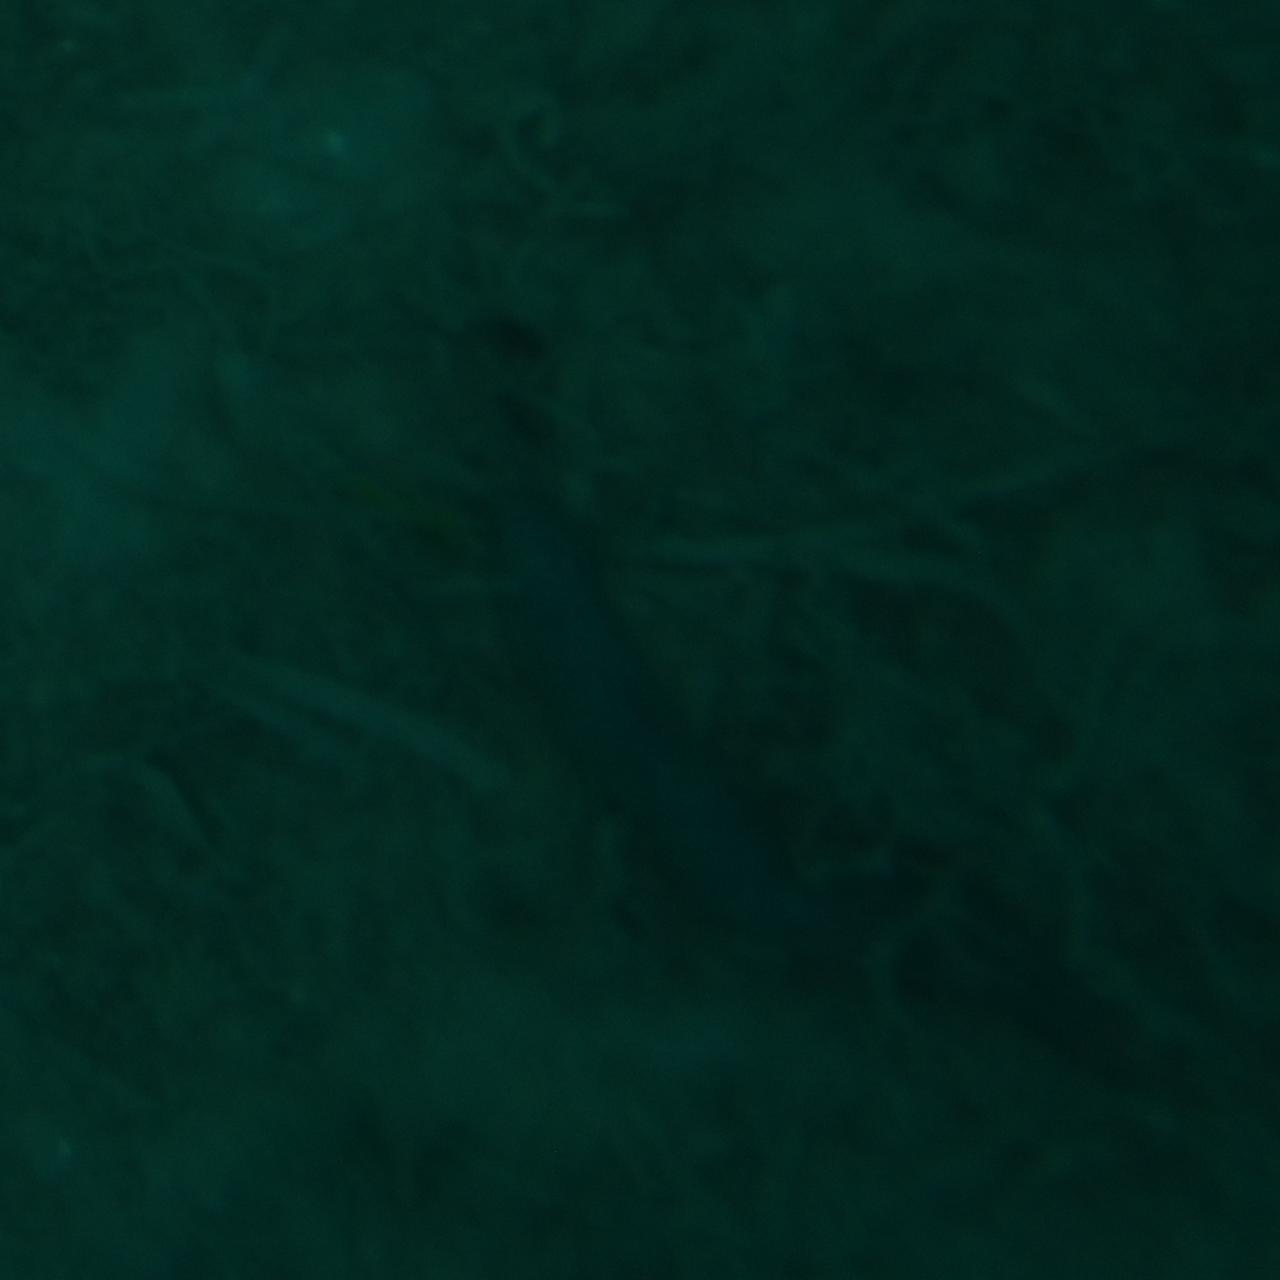Holothuria tubulosa: (440, 292, 840, 988)
